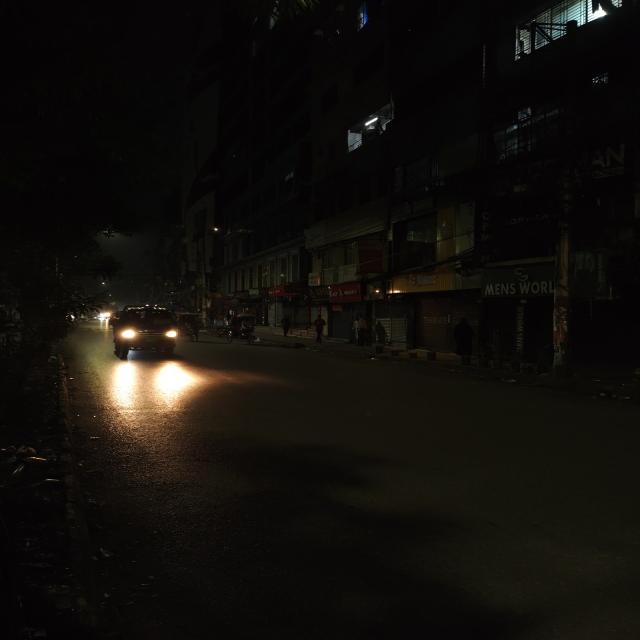pedestrian: (354, 314, 372, 346), (311, 314, 330, 344), (275, 316, 294, 338)
pickup_van: (102, 305, 183, 363)
rickshaw: (216, 312, 265, 346), (178, 310, 208, 342)
